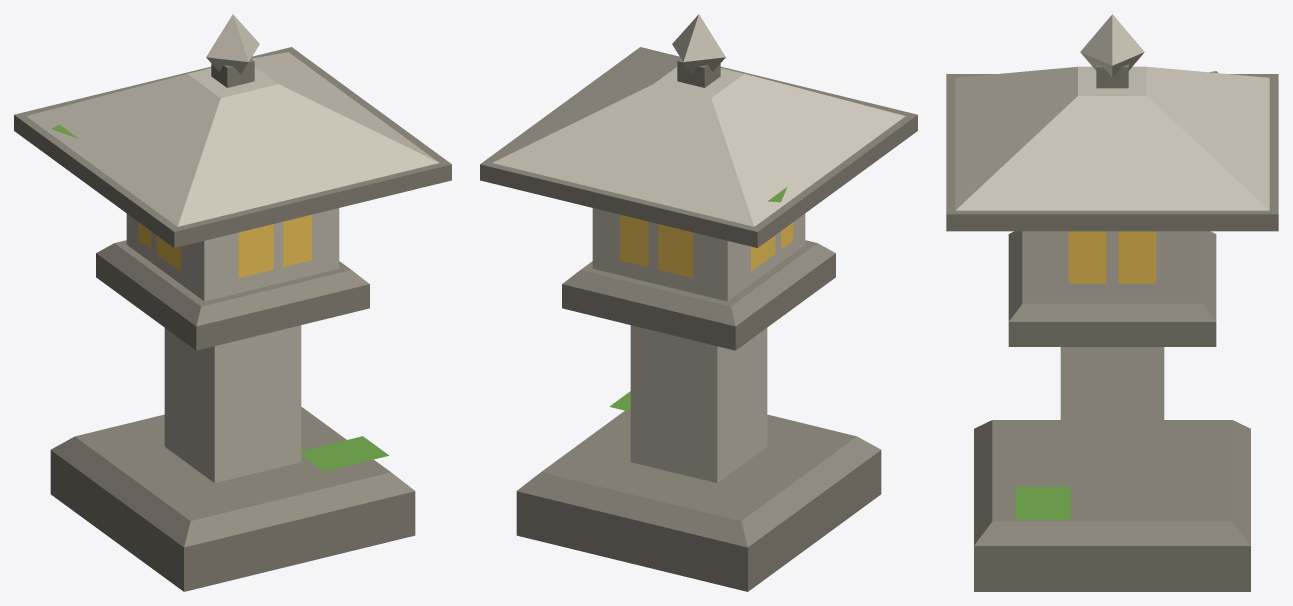
The model's file is stone_lantern.glb.
The picture shows the model from 3 angles, left to right: view 1: azimuth 30°, elevation 25°; view 2: azimuth 150°, elevation 25°; view 3: azimuth 270°, elevation 25°; orthographic projection. The views are drawn at different scales.
Visible parts, largest first — view 1: stone_lantern; view 2: stone_lantern; view 3: stone_lantern.
Boxes of the visible parts, x1,y1,x2,y2 form: stone_lantern: [14, 14, 451, 591]; stone_lantern: [480, 14, 917, 591]; stone_lantern: [946, 14, 1278, 591].
Size of the model in its own units: 0.144 by 0.2482 by 0.144.
